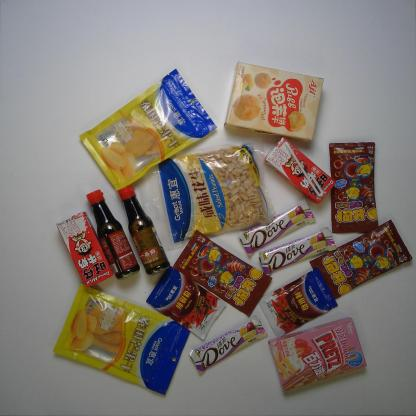Candy: (308, 216, 415, 301), (170, 230, 268, 318), (326, 138, 378, 236)
Chocolate: (188, 306, 272, 376), (238, 196, 323, 254), (257, 227, 344, 279)
Dessert: (222, 54, 327, 143), (266, 312, 369, 394)
Dried Fruit: (74, 63, 224, 192), (54, 277, 199, 401), (152, 141, 278, 240)
Milk: (51, 209, 122, 293), (266, 132, 338, 204)
Seasoner: (149, 265, 230, 341), (254, 262, 333, 338), (79, 183, 141, 279), (114, 182, 173, 276)
